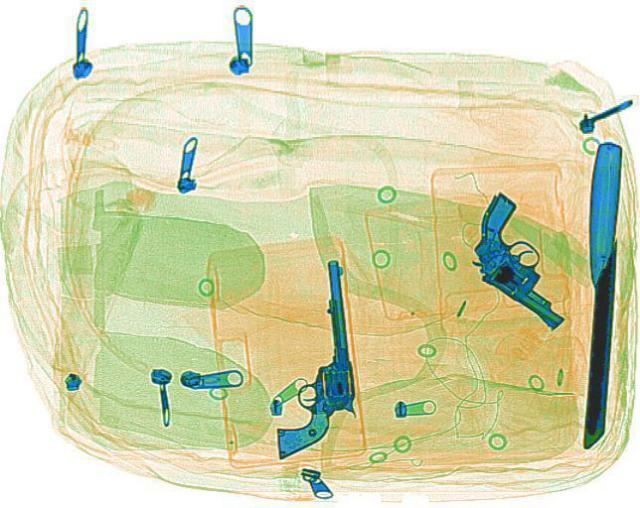Gun: (428, 190, 624, 328), (252, 257, 362, 456)
Knife: (580, 140, 622, 446)
